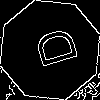D: (25, 25, 79, 73)
